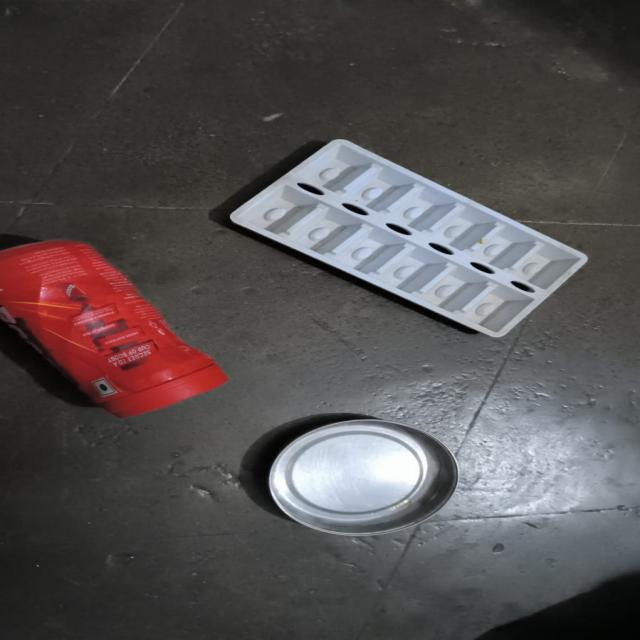metal: (264, 415, 511, 563)
plastic: (181, 148, 588, 296), (9, 238, 266, 422)
